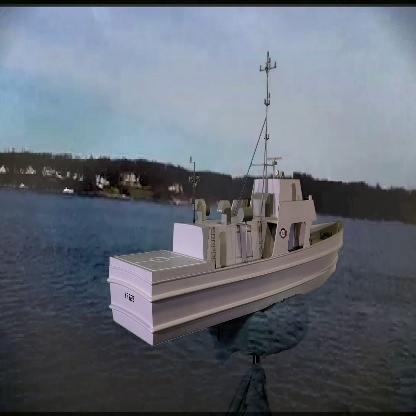YP689: (106, 51, 345, 350)
